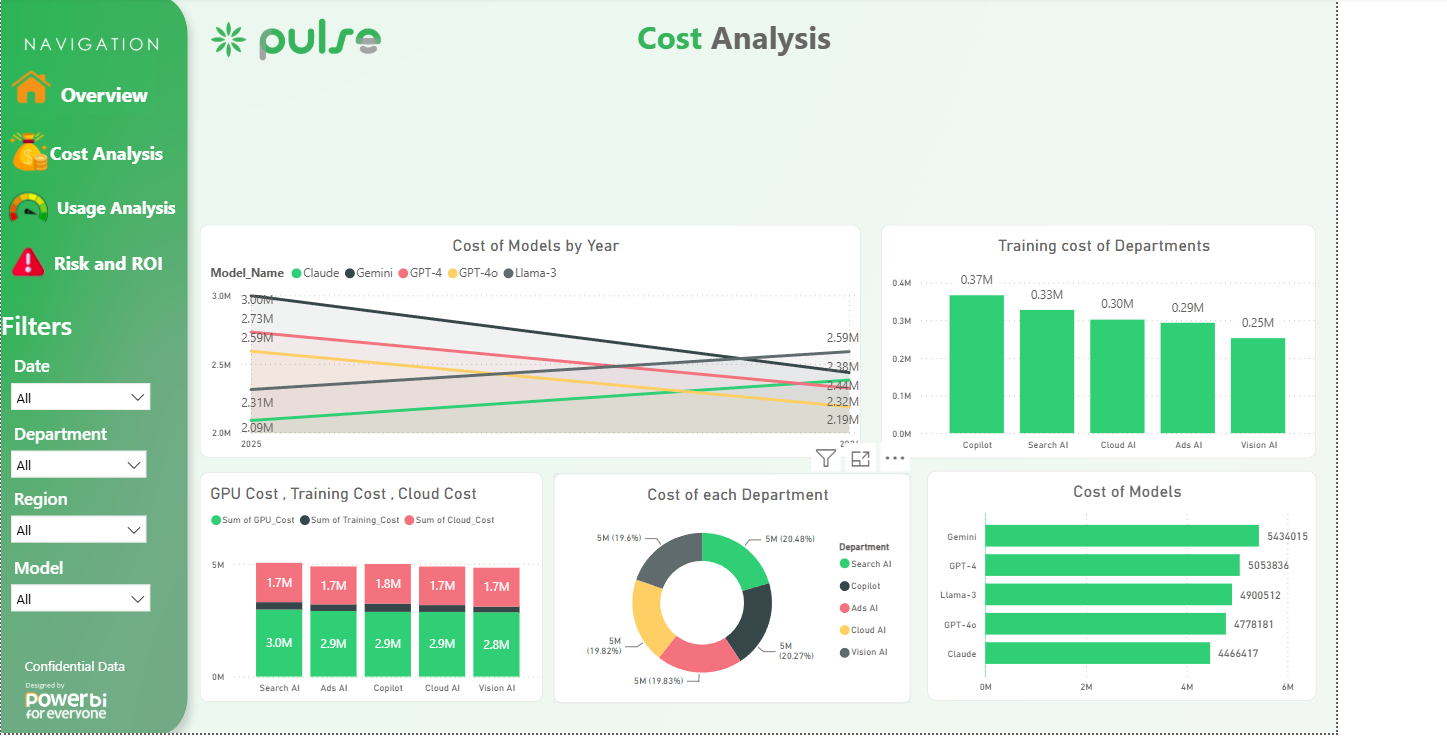

The page's visual inventory and layout, read from the dashboard file:
{"tool":"powerbi","page":{"name":"Cost Analysis","canvas":[1360,750],"ordinal":1},"visuals":[{"type":"image","box":[0,0,202.7,750.9],"z":2000},{"type":"lineChart","title":"Cost of Models by Year","fields":{"Category":["AI_Investment.Date.Variation.Date Hierarchy.Year","AI_Investment.Date.Variation.Date Hierarchy.Quarter","AI_Investment.Date.Variation.Date Hierarchy.Month","AI_Investment.Date.Variation.Date Hierarchy.Day"],"Series":["AI_Investment.Model_Name"],"Y":["Sum(AI_Investment.Total_Cost)"]},"box":[202.7,231.8,673.6,237.7],"z":4000},{"type":"textbox","box":[18.9,667.4,116.8,36.3],"z":12000},{"type":"image","box":[9.5,692.6,115.2,47.3],"z":13000},{"type":"clusteredBarChart","title":"Cost of Models","fields":{"Category":["AI_Investment.Model_Name"],"Y":["Sum(AI_Investment.Total_Cost)"]},"box":[943.3,482.6,396.6,234.7],"z":14000},{"type":"image","box":[188,2,234,82],"z":15000},{"type":"textbox","box":[643.7,14.2,265.1,58.4],"z":16000},{"type":"image","box":[16.1,35.7,150.9,30],"z":17000},{"type":"lineStackedColumnComboChart","title":"Training cost of Departments","fields":{"Category":["AI_Investment.Department"],"Y":["Sum(AI_Investment.Training_Cost)"]},"box":[896.7,231.2,443.4,238.6],"z":22000},{"type":"donutChart","title":"Cost of each Department","fields":{"Category":["AI_Investment.Department"],"Y":["Sum(AI_Investment.Total_Cost)"]},"box":[562.8,485.5,364.5,234.7],"z":23000},{"type":"columnChart","title":"GPU Cost , Training Cost , Cloud Cost","fields":{"Category":["AI_Investment.Department"],"Y":["Sum(AI_Investment.GPU_Cost)","Sum(AI_Investment.Training_Cost)","Sum(AI_Investment.Cloud_Cost)"]},"box":[202.7,484,349.9,234.7],"z":24000},{"type":"actionButton","box":[0,58.6,157.9,61.1],"z":24001},{"type":"actionButton","box":[0,129.9,173.2,56],"z":24002},{"type":"actionButton","box":[0,186,186,56],"z":24003},{"type":"actionButton","box":[0,242,173.2,56],"z":24004},{"type":"slicer","fields":{"Values":["AI_Investment.Date"]},"box":[0,359.2,161.8,68.8],"z":24005},{"type":"slicer","fields":{"Values":["AI_Investment.Department"]},"box":[0,428,157.9,66.2],"z":24006},{"type":"slicer","fields":{"Values":["AI_Revenue.Region"]},"box":[0,494.2,157.9,66.2],"z":24007},{"type":"slicer","fields":{"Values":["AI_Investment.Model_Name"]},"box":[0,564.3,161.8,68.8],"z":24008},{"type":"shape","box":[0,307,169.4,52.2],"z":24009}]}

Visuals, with their boxes on the page's 1360x750 design canvas (x1, y1, x2, y2). These are canvas units, not pixel positions in the 1447x738 screenshot, which may show the page scaled, cropped or inside an application window:
image: box=[0, 0, 203, 751]
"Cost of Models by Year" lineChart: box=[203, 232, 876, 470]
textbox: box=[19, 667, 136, 704]
image: box=[10, 693, 125, 740]
"Cost of Models" clusteredBarChart: box=[943, 483, 1340, 717]
image: box=[188, 2, 422, 84]
textbox: box=[644, 14, 909, 73]
image: box=[16, 36, 167, 66]
"Training cost of Departments" lineStackedColumnComboChart: box=[897, 231, 1340, 470]
"Cost of each Department" donutChart: box=[563, 486, 927, 720]
"GPU Cost , Training Cost , Cloud Cost" columnChart: box=[203, 484, 553, 719]
actionButton: box=[0, 59, 158, 120]
actionButton: box=[0, 130, 173, 186]
actionButton: box=[0, 186, 186, 242]
actionButton: box=[0, 242, 173, 298]
slicer - AI_Investment.Date: box=[0, 359, 162, 428]
slicer - AI_Investment.Department: box=[0, 428, 158, 494]
slicer - AI_Revenue.Region: box=[0, 494, 158, 560]
slicer - AI_Investment.Model_Name: box=[0, 564, 162, 633]
shape: box=[0, 307, 169, 359]
